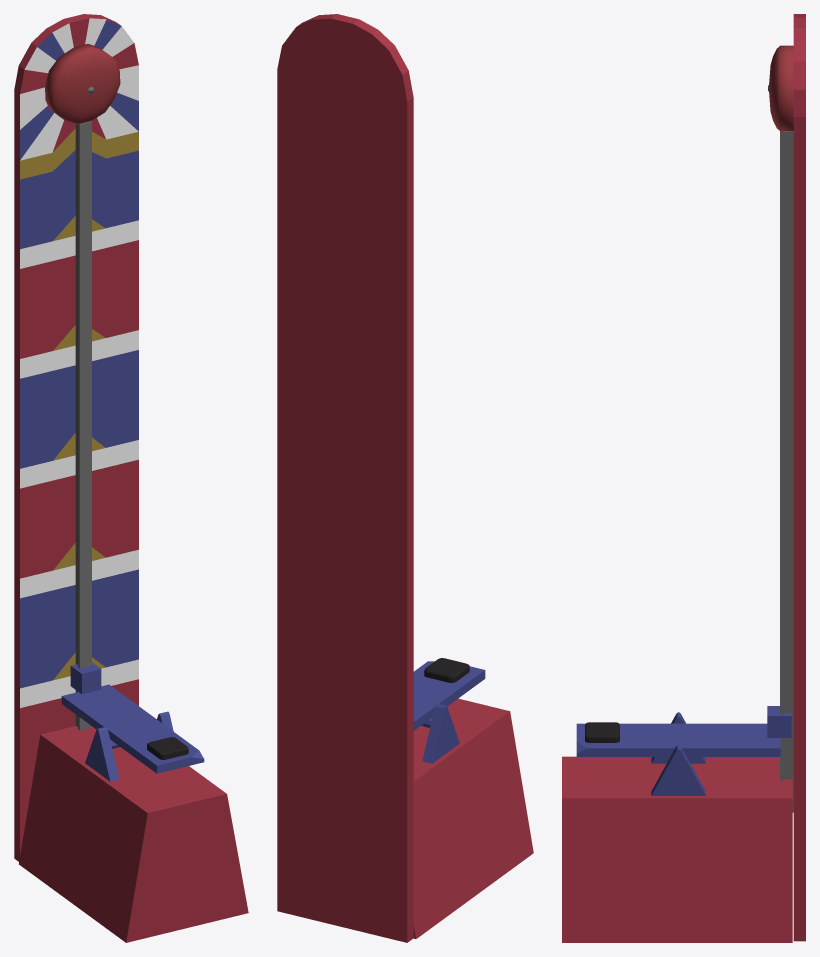
The model's file is HighStriker1.fbx.
3 renders of one model, left to right at view 1: azimuth 30°, elevation 25°; view 2: azimuth 150°, elevation 25°; view 3: azimuth 270°, elevation 25°, orthographic. The views are drawn at different scales.
Visible parts, largest first — view 1: Base, SeesawBoard, Bell, SeesawPipe, Puck; view 2: Base, SeesawBoard, SeesawPipe; view 3: Base, SeesawBoard, SeesawPipe, Bell, Puck.
Boxes of the visible parts, x1,y1,x2,y2 form: Base: [14, 14, 248, 942]; SeesawBoard: [61, 684, 204, 773]; Bell: [45, 44, 120, 124]; SeesawPipe: [85, 711, 173, 781]; Puck: [70, 662, 101, 694]; Base: [277, 14, 533, 942]; SeesawBoard: [413, 658, 485, 730]; SeesawPipe: [421, 703, 459, 763]; Base: [562, 14, 805, 942]; SeesawBoard: [576, 722, 780, 756]; SeesawPipe: [651, 712, 705, 795]; Bell: [768, 45, 793, 131]; Puck: [767, 706, 791, 737].
Bounding box in the file's own units: 61.83 × 399 × 99.38.
